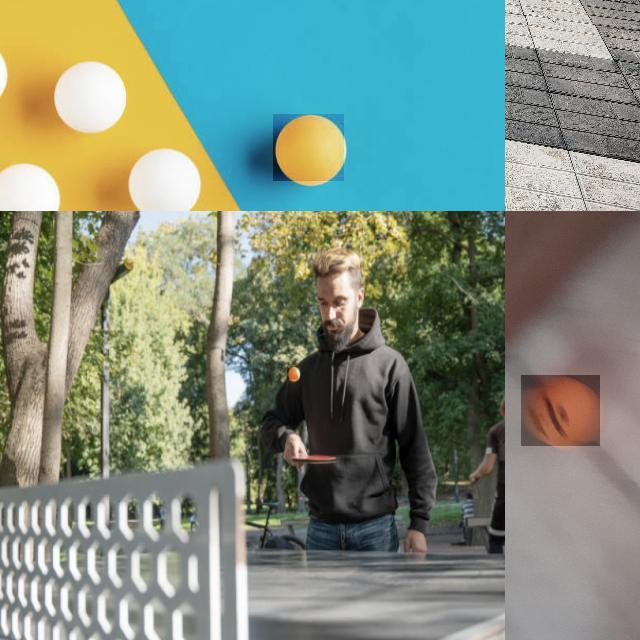ping-pong-ball: (520, 375, 602, 447), (273, 114, 345, 182), (286, 366, 298, 380)
